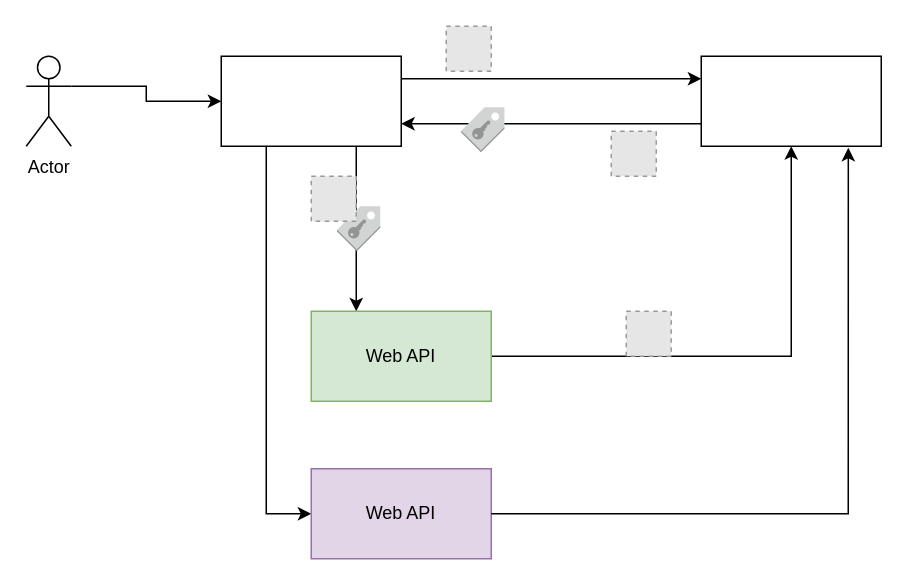
Some shapes in this 908 by 585 pixel diagram are drawn without their labels. Grey dashed boxes stand in for pictures. The box of each missing label's shape, as (x1, y1, x2, y2) in pixels:
Auth Provider: (700, 55, 881, 146)
Web App: (220, 55, 401, 146)
